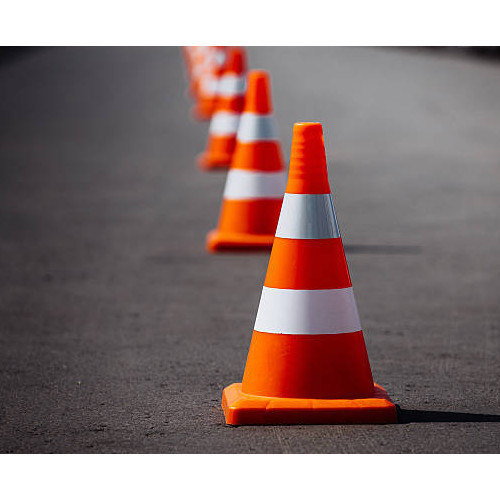cones: (227, 117, 406, 425), (204, 47, 283, 257)
